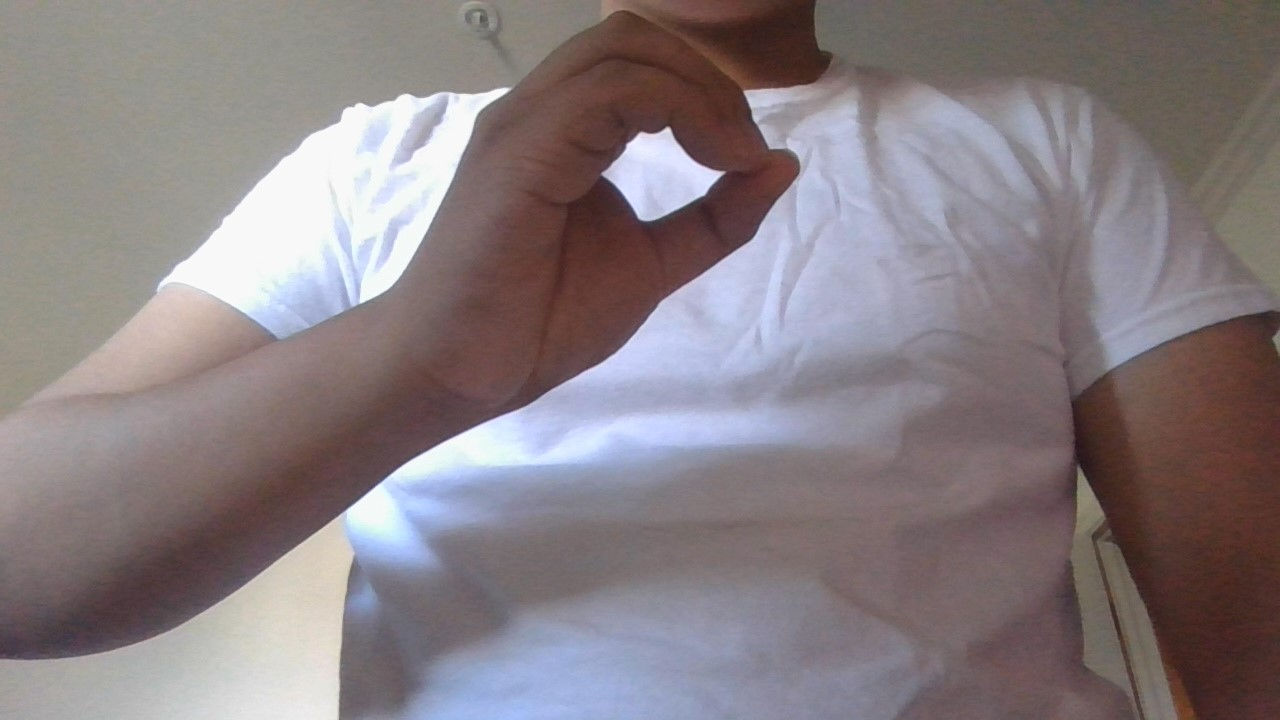o: (389, 2, 823, 427)
